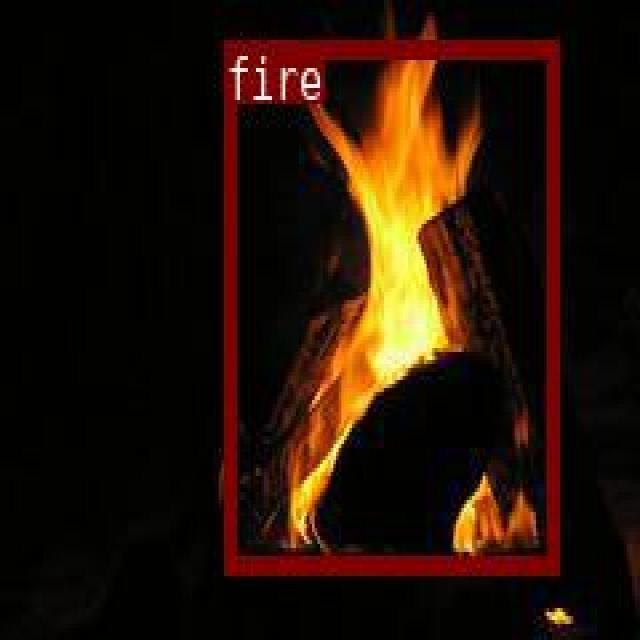fire: (222, 36, 557, 572)
